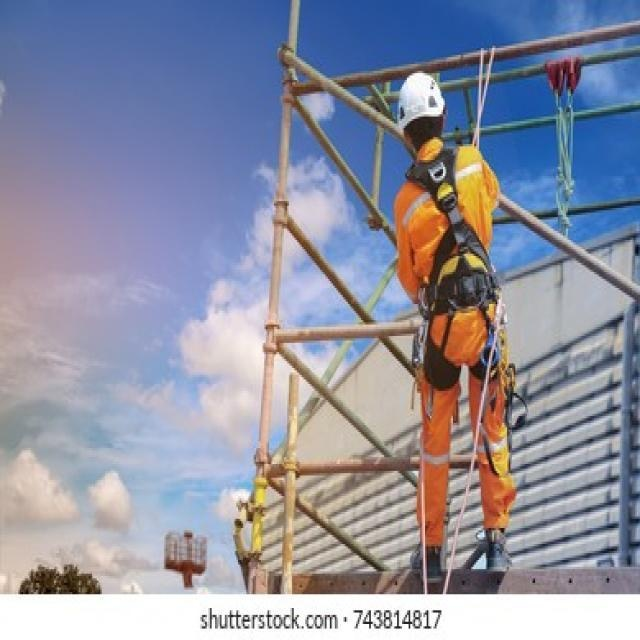Arnes_seguridad: (409, 142, 501, 386)
